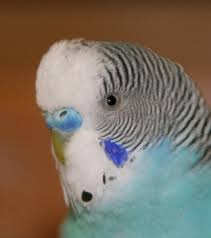budgie: (34, 37, 211, 237)
